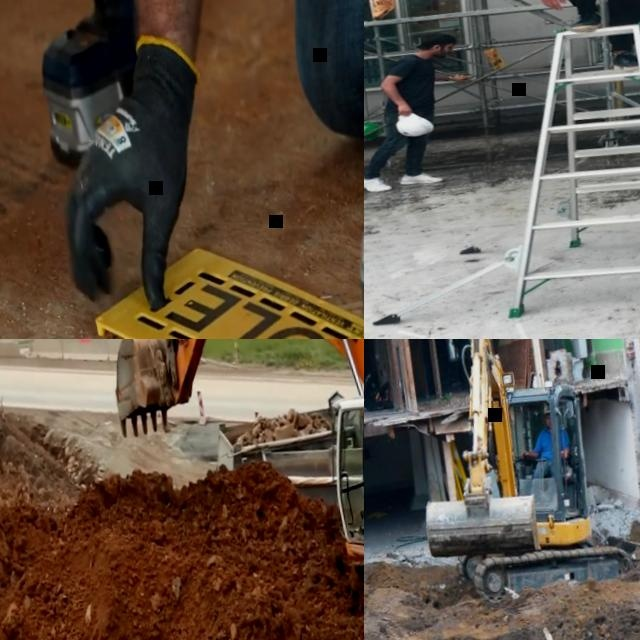Hardhat: (394, 109, 438, 142)
NO-Hardhat: (418, 30, 459, 50), (542, 402, 554, 415)
NO-Mask: (431, 47, 452, 58), (547, 421, 552, 429)
NO-Safety Vest: (384, 54, 438, 119), (538, 426, 567, 459)
Person: (23, 0, 364, 339), (364, 28, 485, 195), (513, 0, 640, 81), (515, 402, 575, 500), (449, 339, 474, 374)
machinery: (87, 339, 364, 640), (402, 339, 640, 610)
